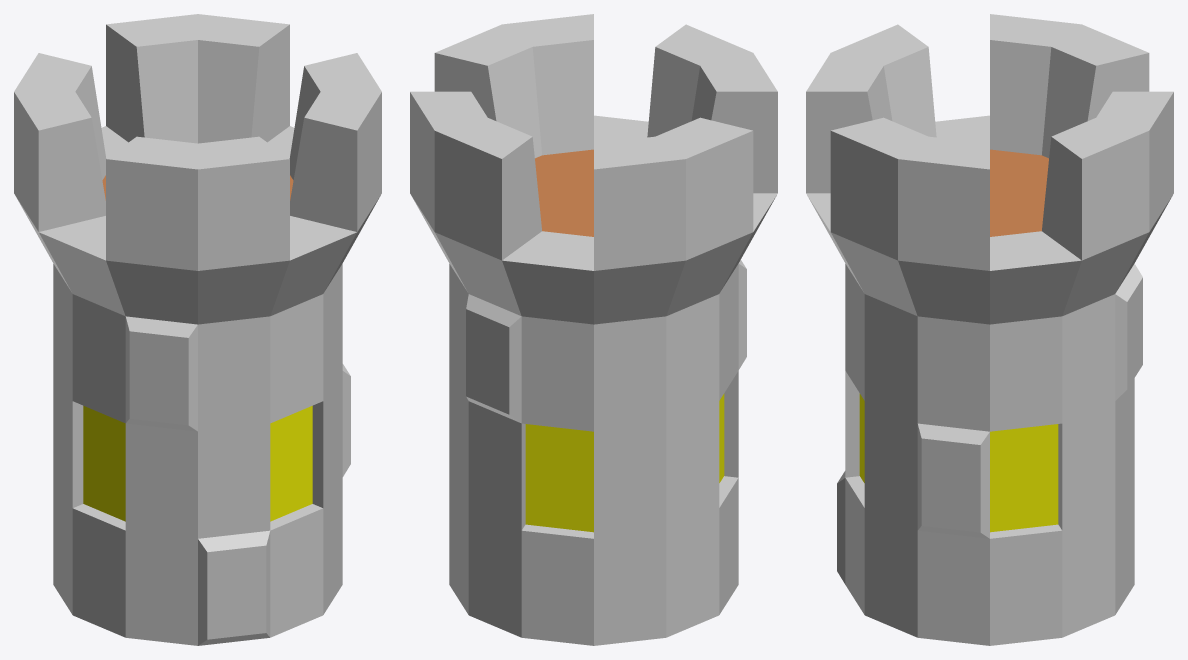
The model's file is tower.fbx.
The picture shows the model from 3 angles, left to right: view 1: azimuth 30°, elevation 25°; view 2: azimuth 150°, elevation 25°; view 3: azimuth 270°, elevation 25°; orthographic projection.
Visible parts, largest first — view 1: tower_2; view 2: tower_2; view 3: tower_2.
Boxes of the visible parts, left/top/right/bottom form: tower_2: left=14, top=14, right=381, bottom=645; tower_2: left=410, top=14, right=777, bottom=645; tower_2: left=806, top=14, right=1173, bottom=645.
Bounding box in the file's own units: 2.53 × 3.74 × 2.53.
